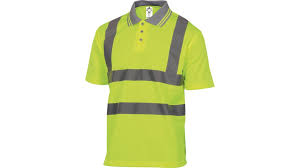S_polo shirt: (84, 1, 220, 161)
